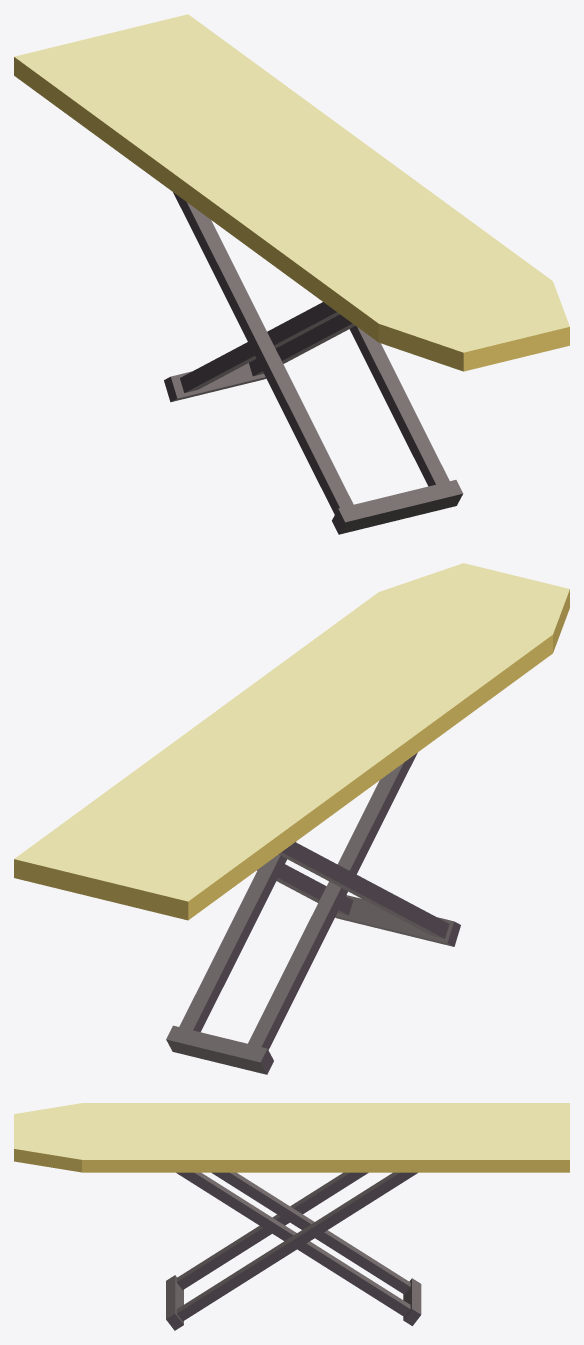
File: Iron Board.fbx
The picture shows the model from 3 angles, top to bottom: view 1: azimuth 30°, elevation 25°; view 2: azimuth 150°, elevation 25°; view 3: azimuth 270°, elevation 25°; orthographic projection. The views are drawn at different scales.
Parts seen in each view (by area): view 1: Iron Board; view 2: Iron Board; view 3: Iron Board.
Boxes of the visible parts, <box> form: Iron Board: <box>14,14,569,534</box>; Iron Board: <box>14,563,569,1074</box>; Iron Board: <box>14,1103,569,1330</box>.
Size of the model in its own units: 73.63 by 109 by 304.
